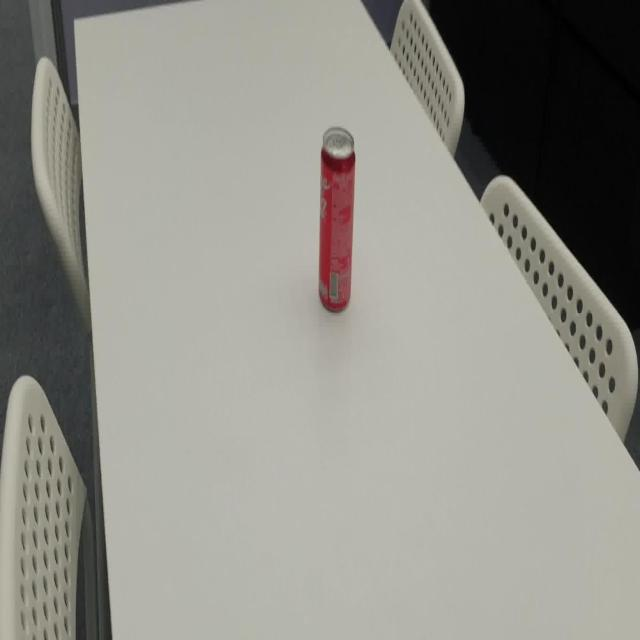coca-cola: (318, 123, 355, 315)
